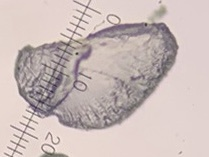microplastic: (14, 22, 179, 131)
